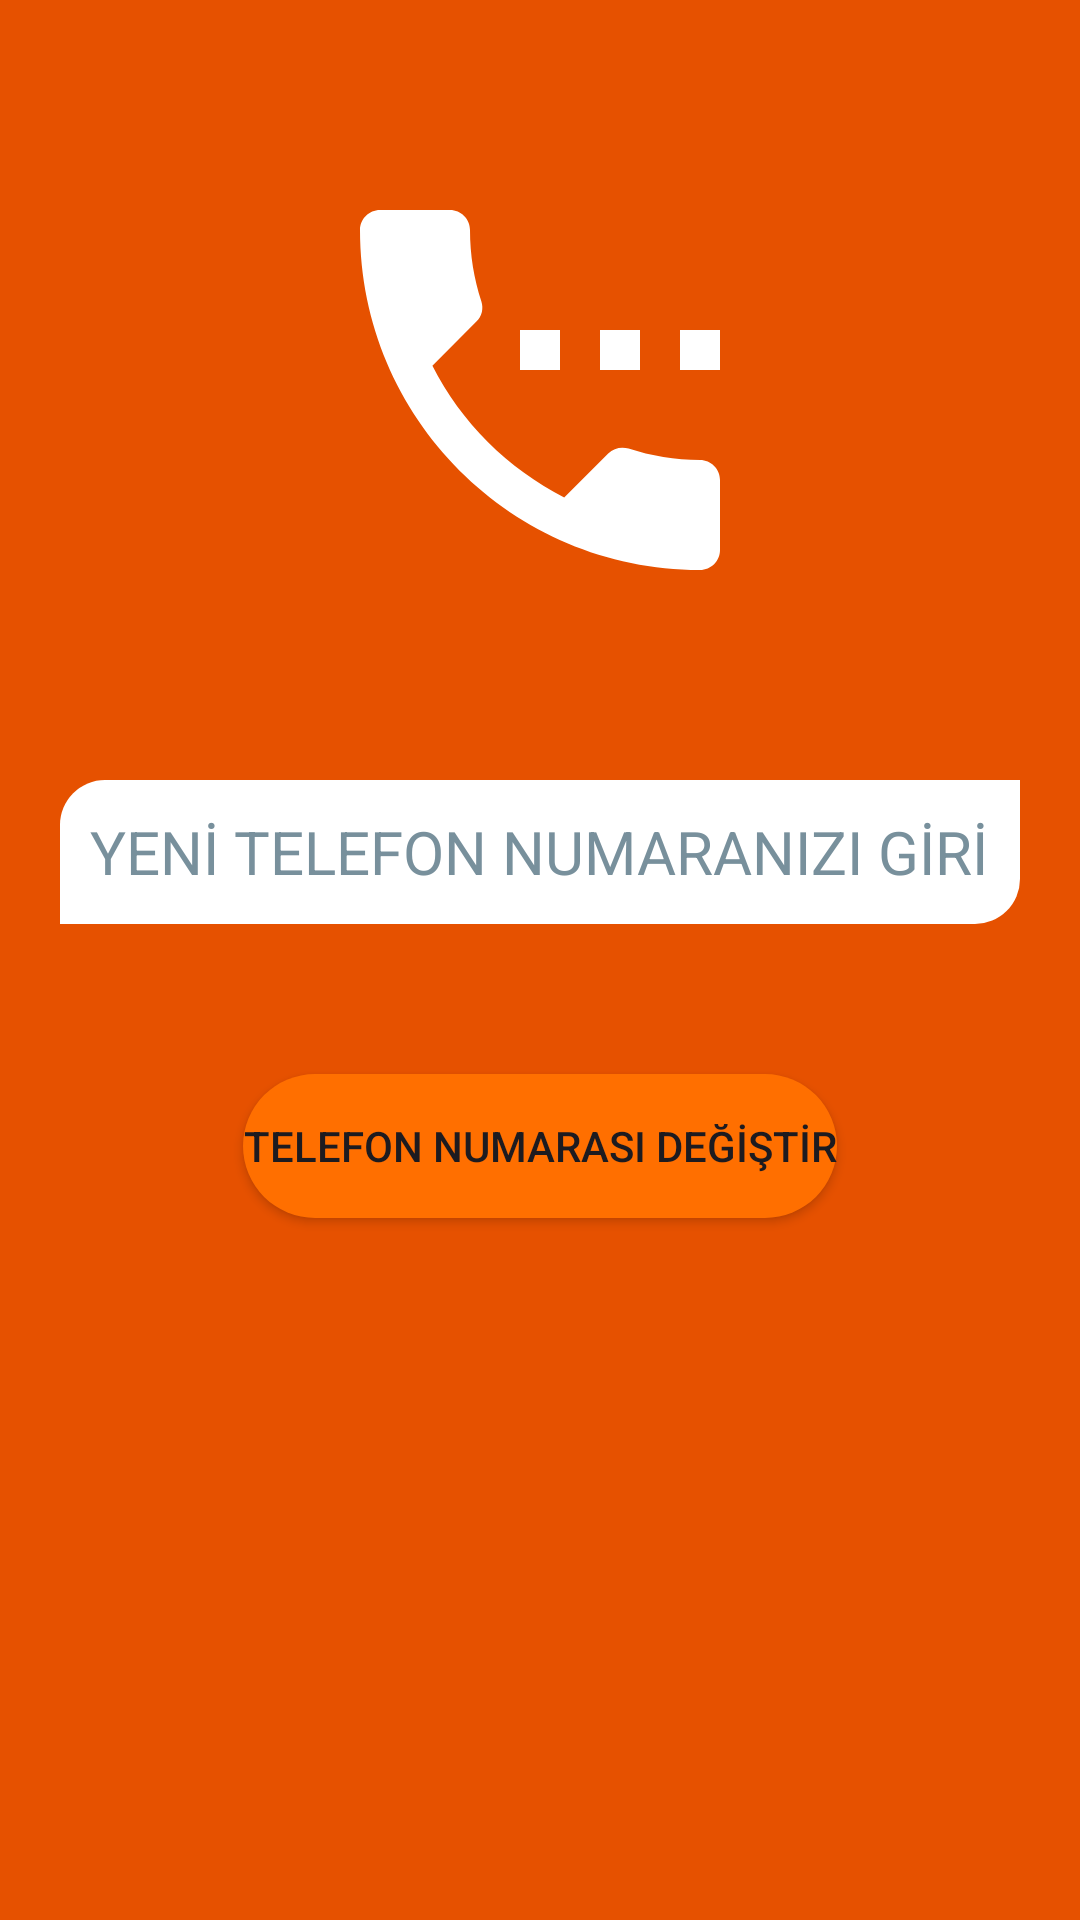

Icons on this 1080×1920 Android screen, each with the point to tap as point (x, y):
phonedgr: point (540, 390)
